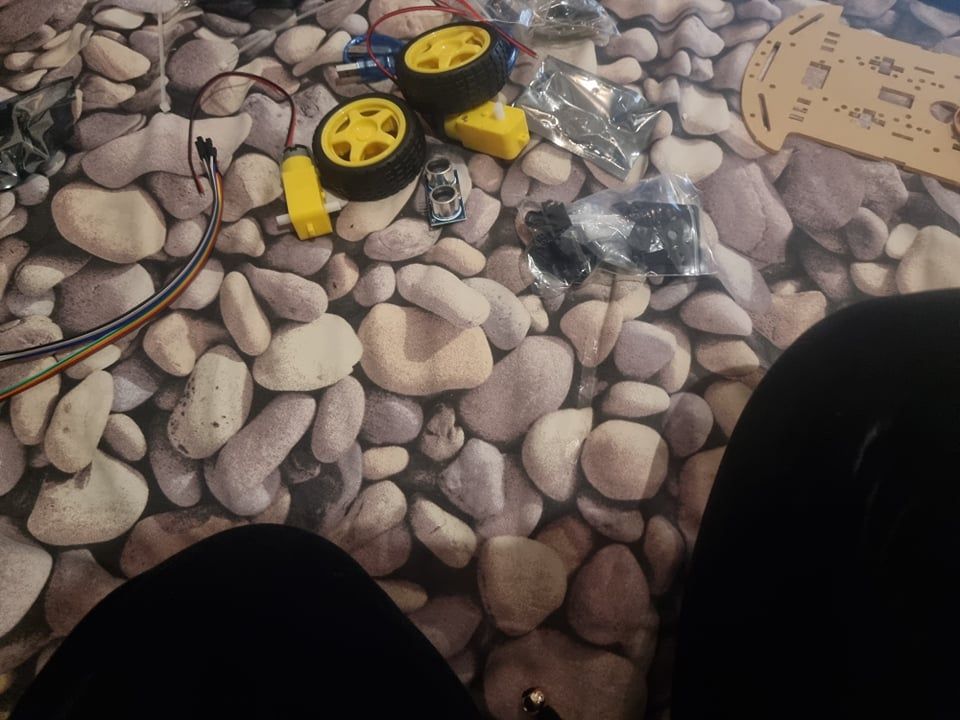SENSOR: (422, 158, 465, 228)
